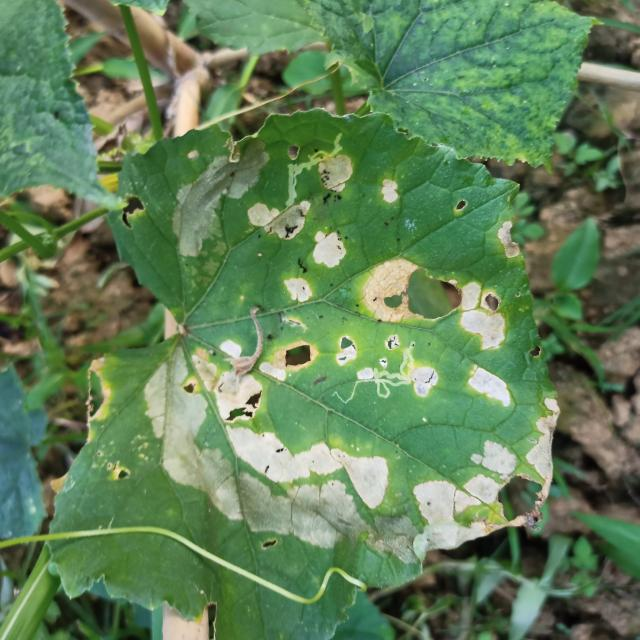disease_cucumber: (137, 349, 441, 567), (239, 141, 526, 351), (411, 343, 565, 575)
